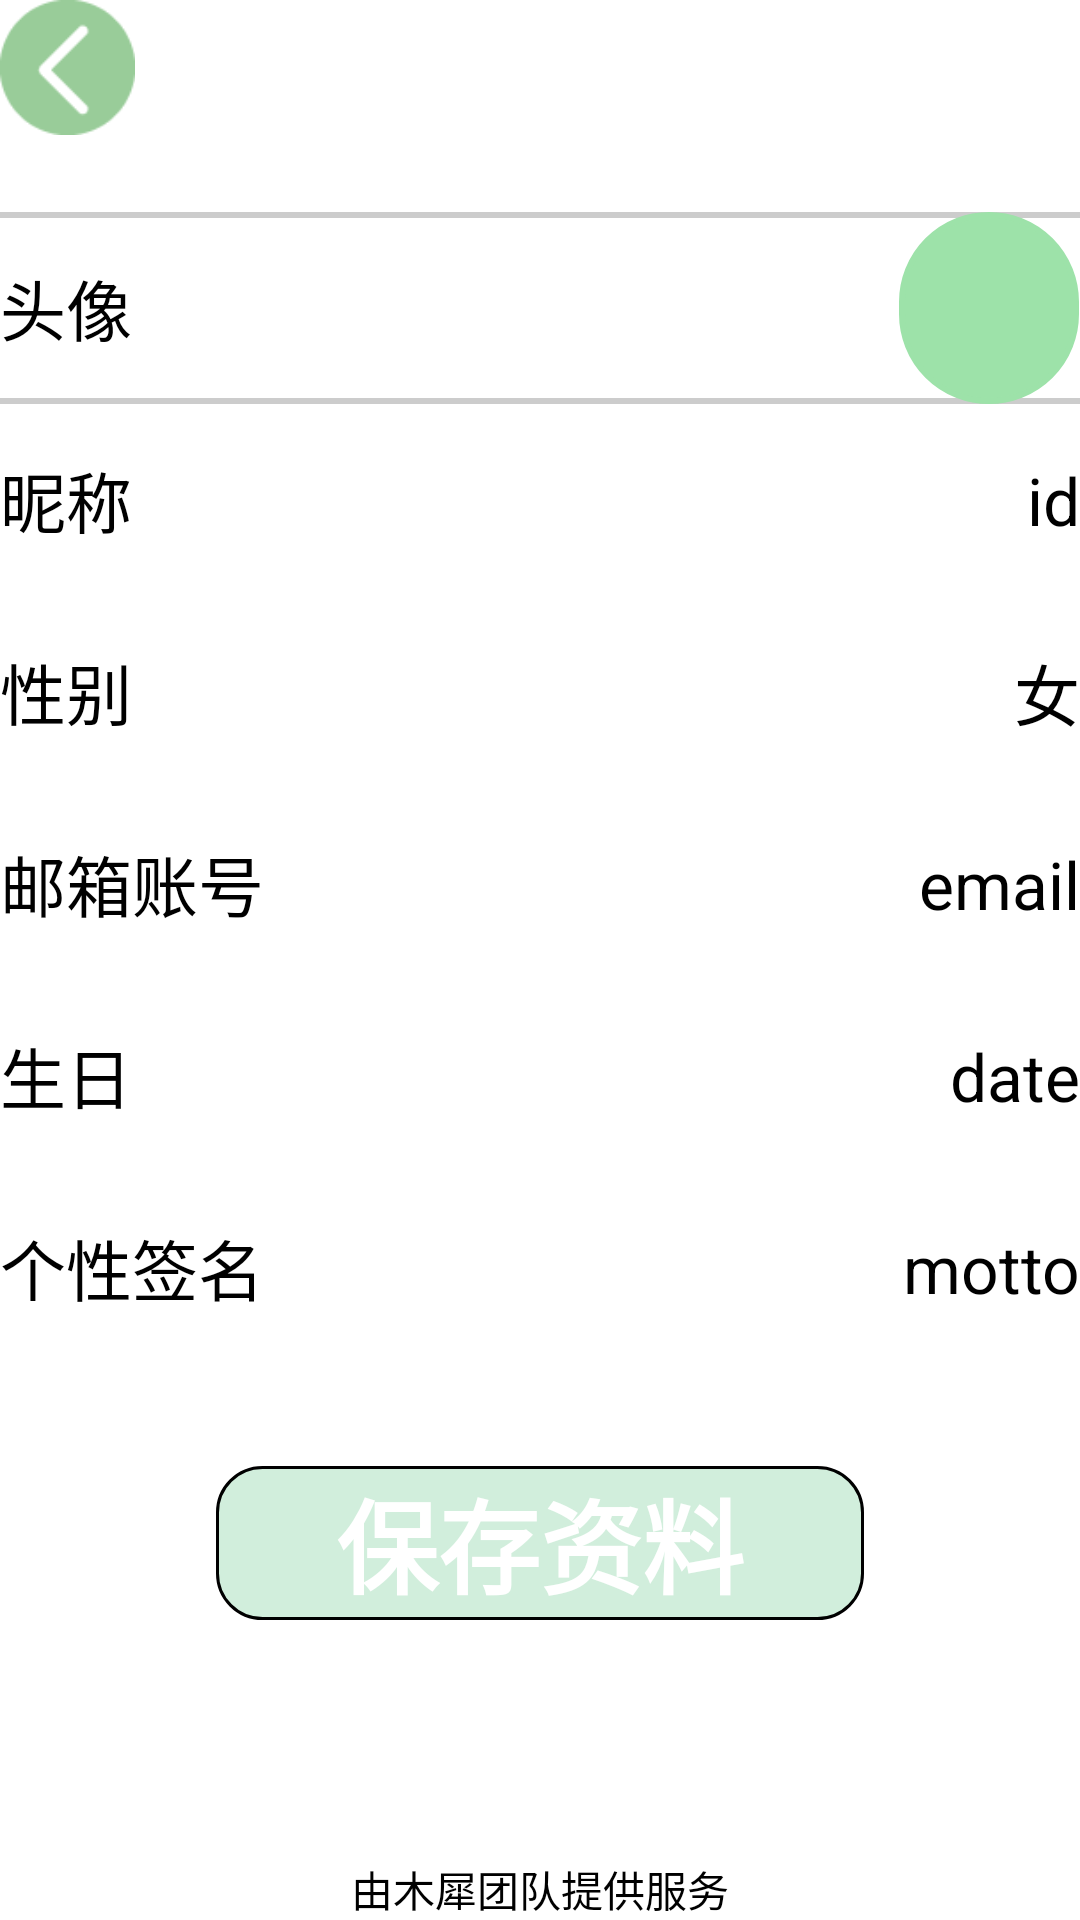

Icons on this 1080*1920 Android screen, each with its box as (left=x1, top=y1, right=x2, bottom=y2):
arrow back: (left=0, top=0, right=135, bottom=135)
